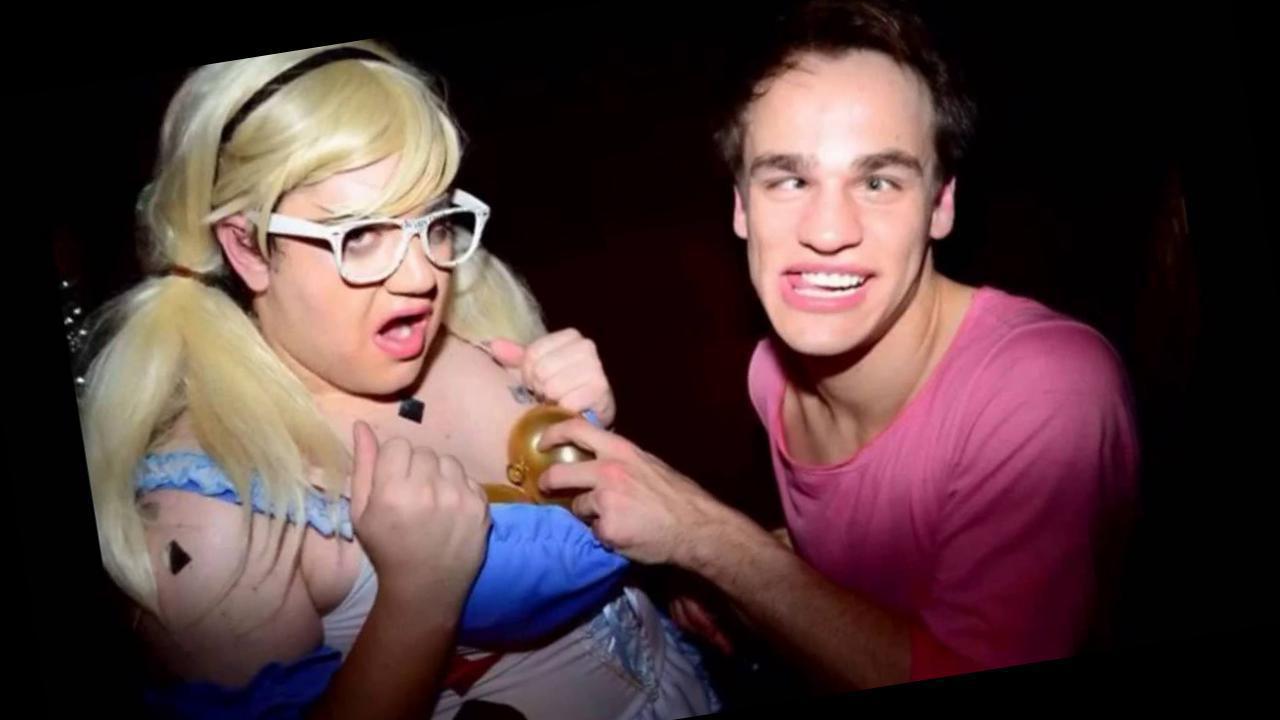Drunk: (744, 69, 931, 356), (279, 165, 459, 388)
